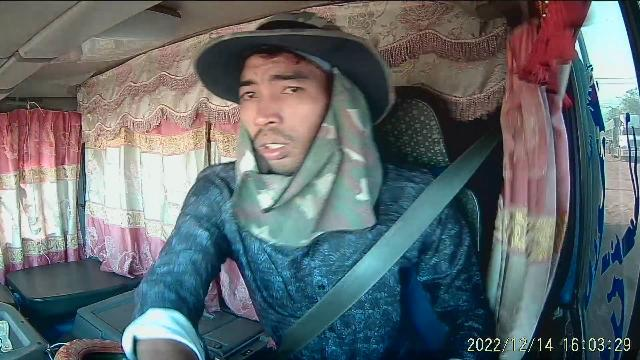SafeDriving: (274, 78, 311, 98), (235, 84, 262, 104)
Seatbelt: (284, 150, 492, 360)
